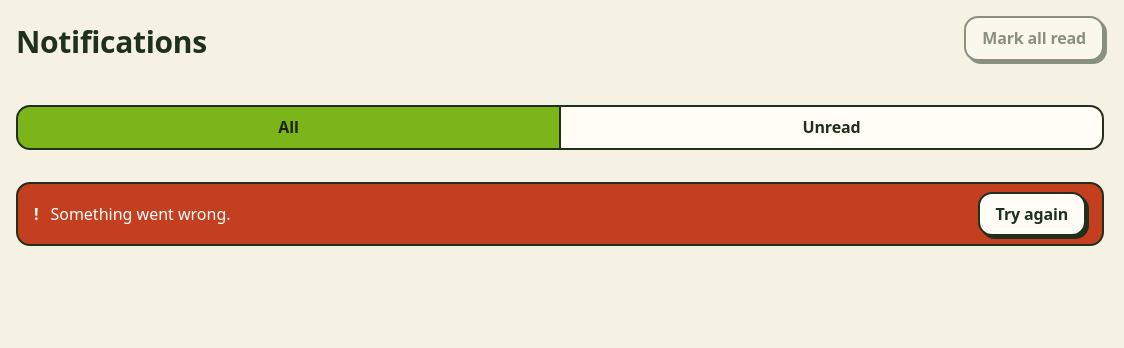
Test: NotificationCenterPage — list error recovery (Wave 6) › shows a retry action on a failed list load and refetches on click
The image size is (1124, 348).
Check: the text "Something went wrong." is shown, box x1=50 y1=203 x2=230 y2=225
Step 1. Click the button "Try again" → (1032, 214), box x1=978 y1=192 x2=1086 y2=236
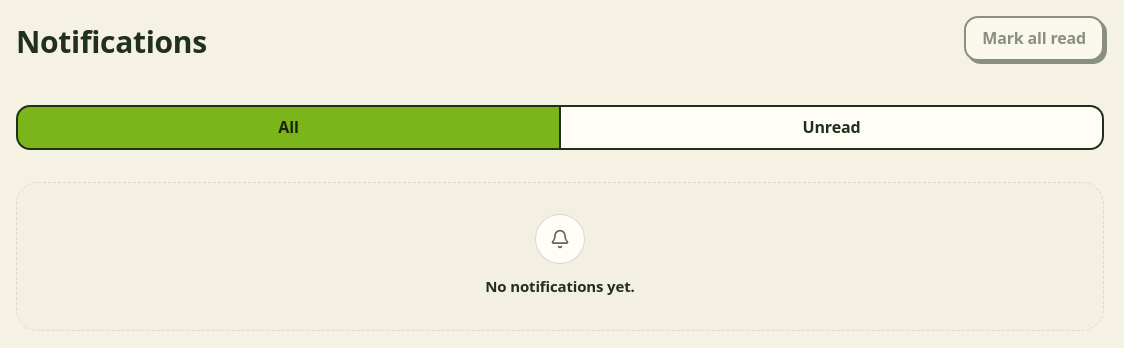
Check: the message "Something went wrong." is gone
